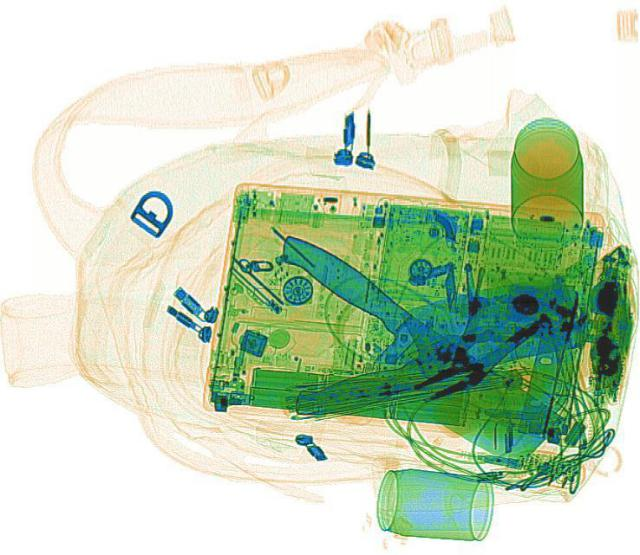Knife: (238, 223, 570, 474), (268, 270, 592, 421)
